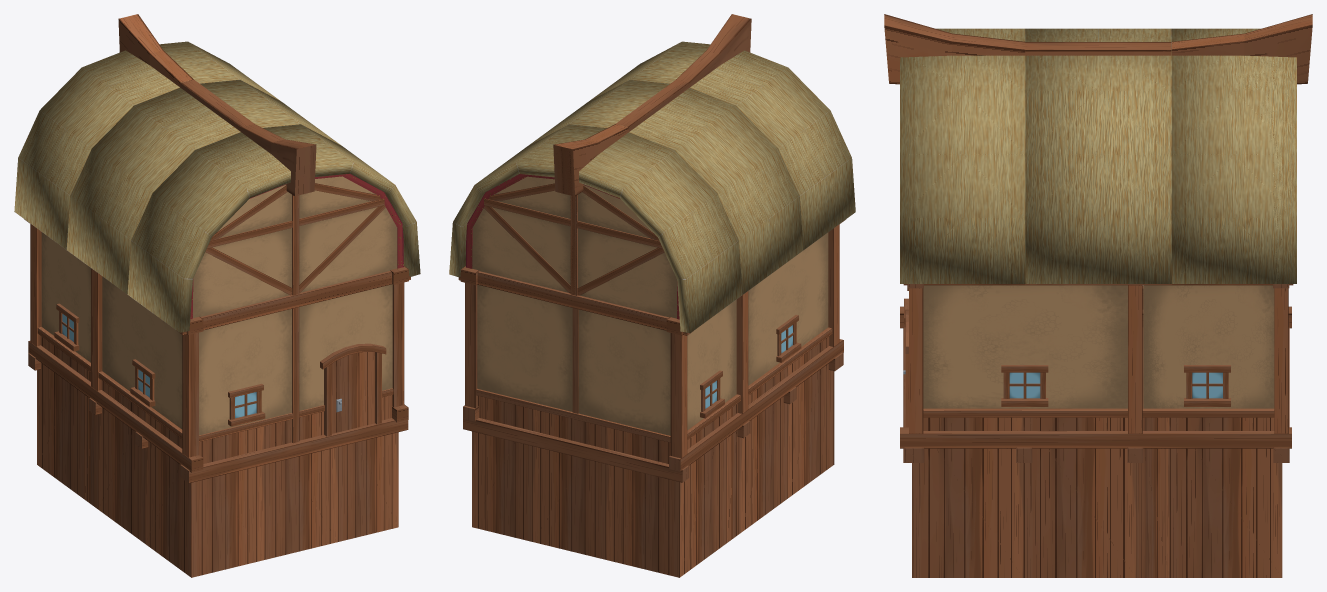
File: house_farm1.glb
The picture shows the model from 3 angles, left to right: view 1: azimuth 30°, elevation 25°; view 2: azimuth 150°, elevation 25°; view 3: azimuth 270°, elevation 25°; orthographic projection. The views are drawn at different scales.
Parts seen in each view (by area): view 1: house_farm1_; view 2: house_farm1_; view 3: house_farm1_.
Part boxes in pixels (left/top/right/bottom): house_farm1_: left=14, top=14, right=420, bottom=577; house_farm1_: left=449, top=14, right=855, bottom=577; house_farm1_: left=884, top=14, right=1312, bottom=577.
Size of the model in its own units: 9.14 by 15.02 by 11.73.
Materials: 1 (1 with a texture image).
